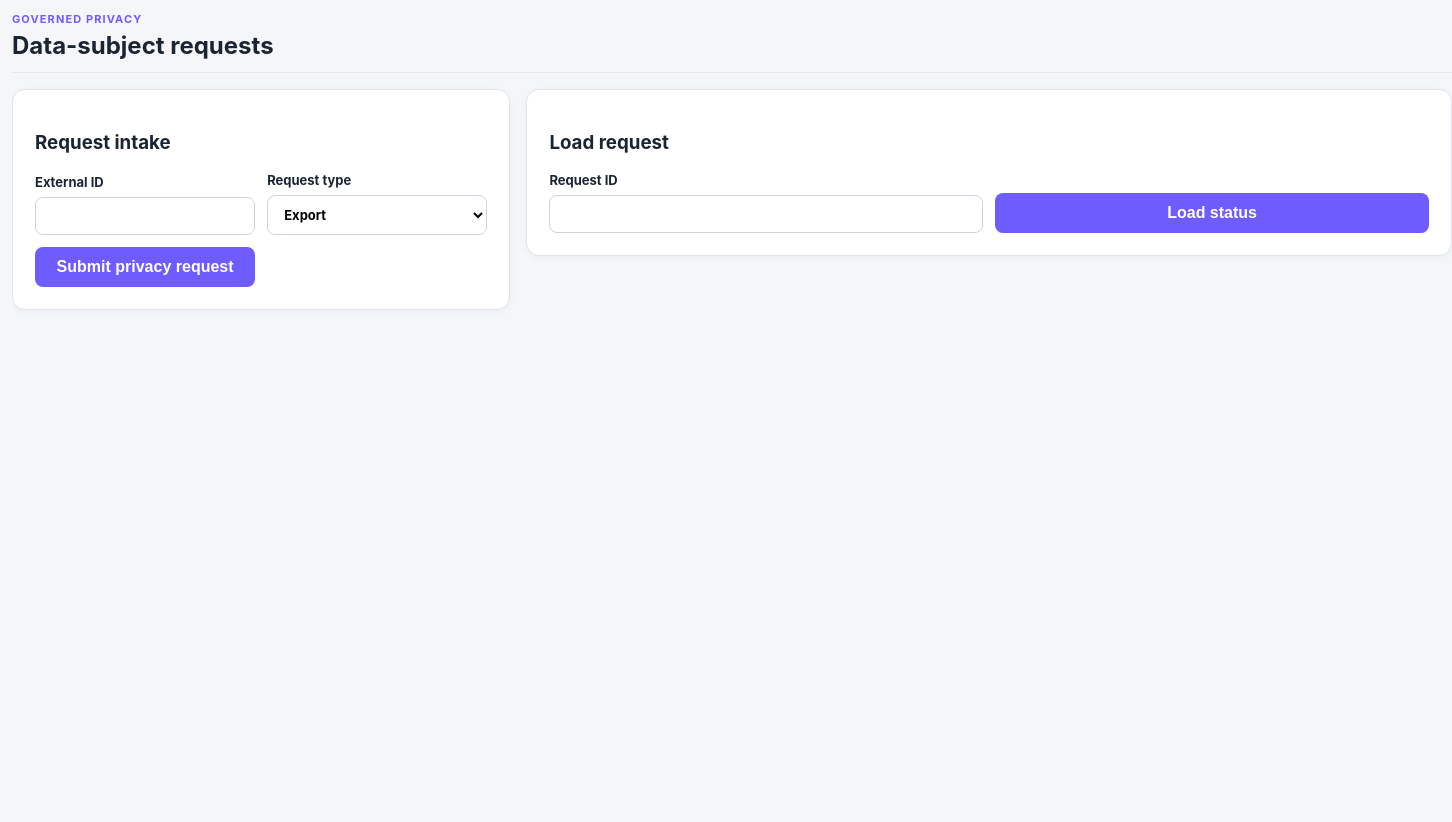
Test case: Privacy console › verifies a request and only enables export download after completion
In the field labelled "External ID": [145, 216] box 35,197 -> 255,235, type "customer-1"
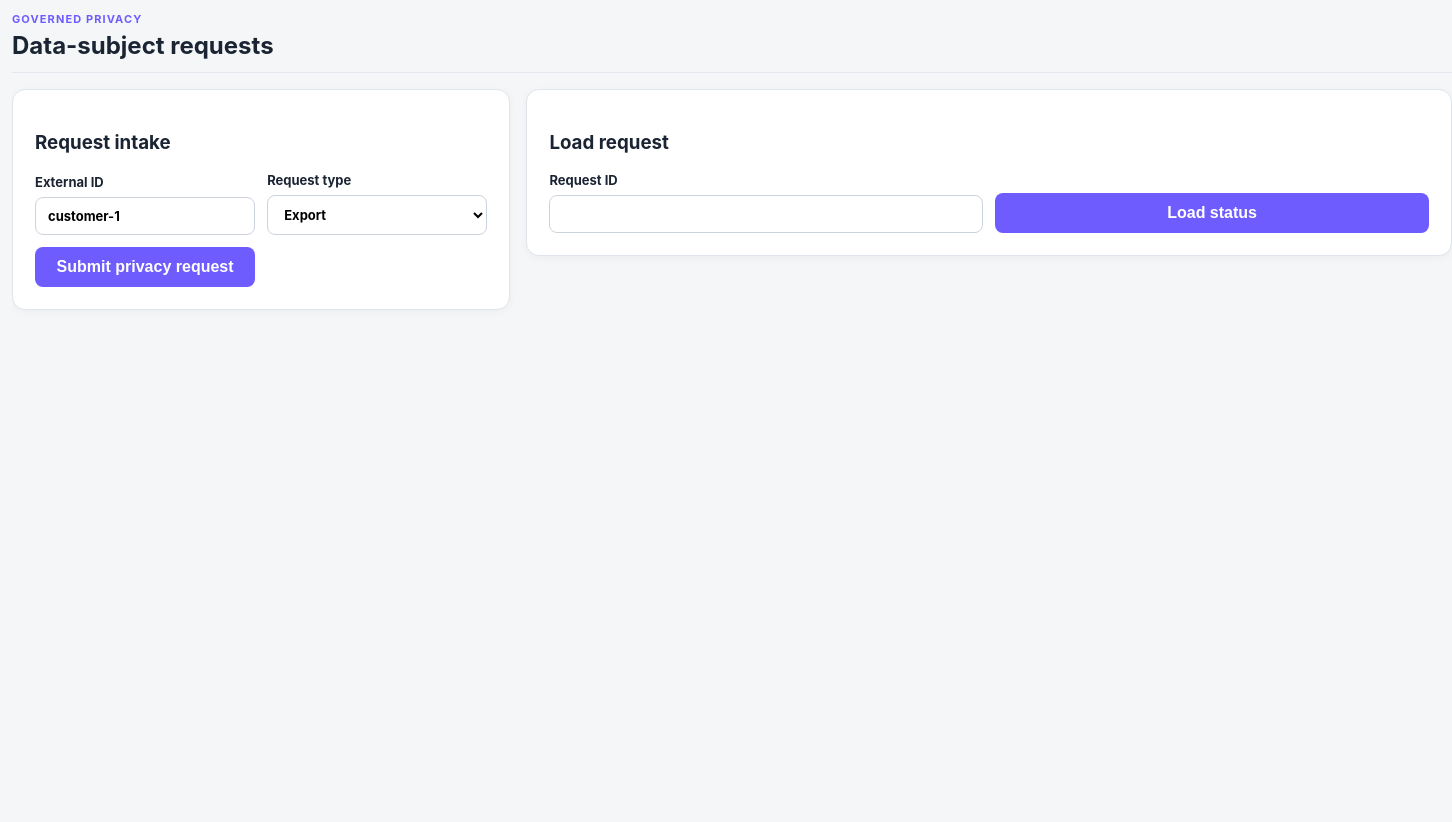
Click the button "Submit privacy request": [145, 267] box 35,247 -> 255,287
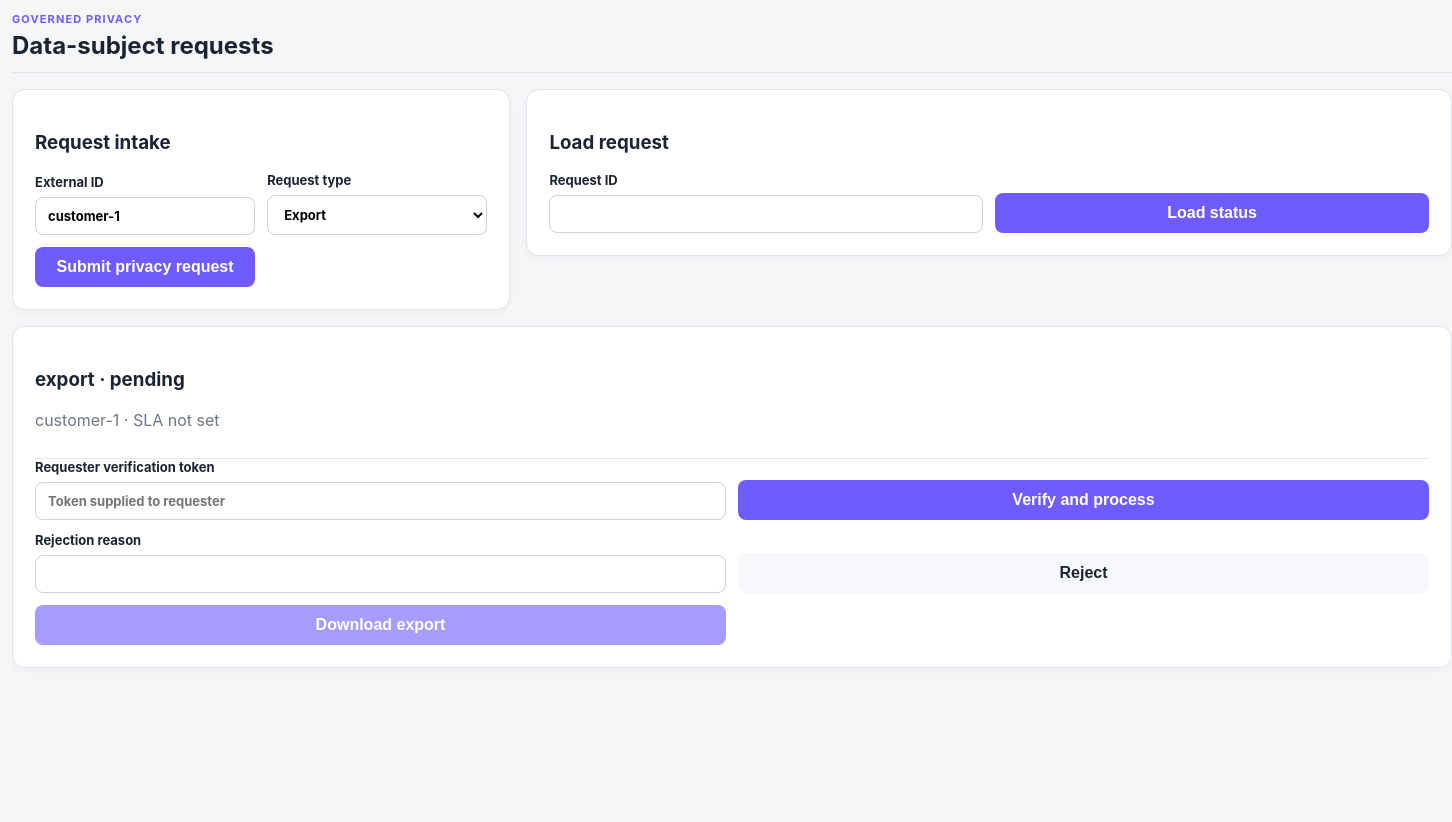
expect the heading "export · pending" is shown: met, box 35,368 -> 185,391
expect the button "Download export" is disabled: met, box 35,605 -> 726,645
In the field labelled "Requester verification token": [380, 501] box 35,482 -> 726,520, type "secret"
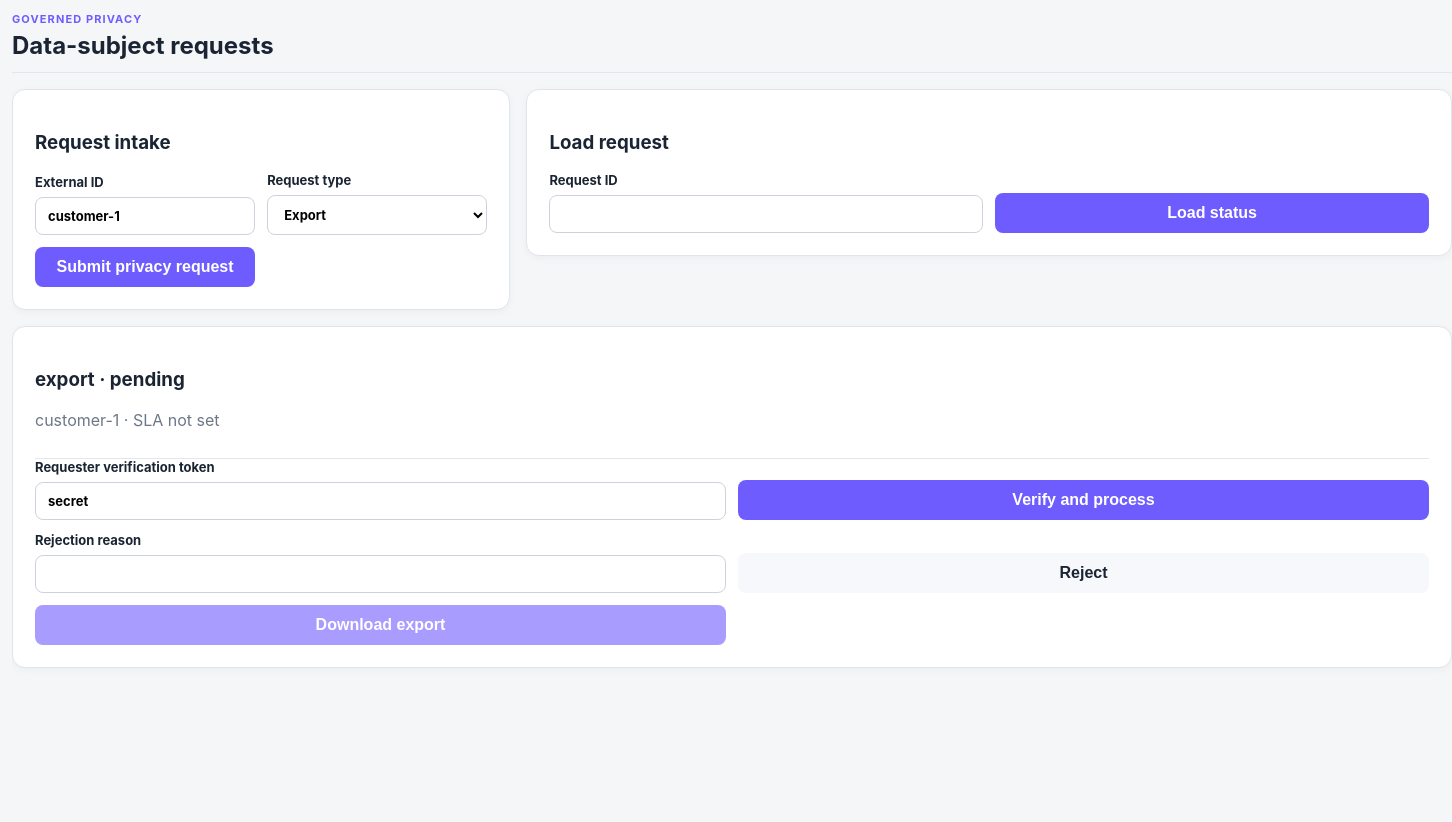
Click the button "Verify and process": [1084, 500] box 738,480 -> 1429,520
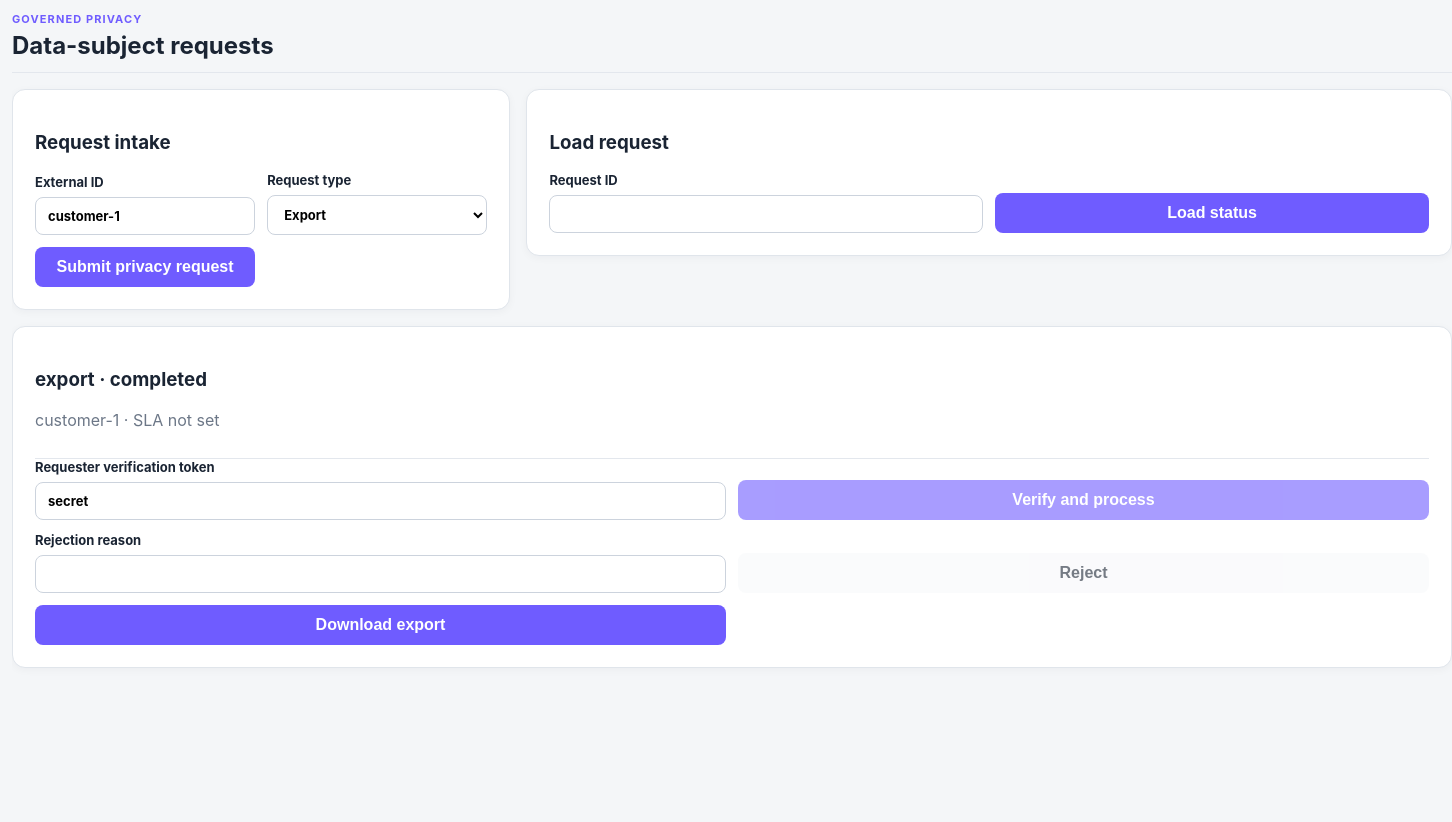
expect the heading "export · completed" is shown: met, box 35,368 -> 220,391
expect the button "Download export" is enabled: met, box 35,605 -> 726,645
